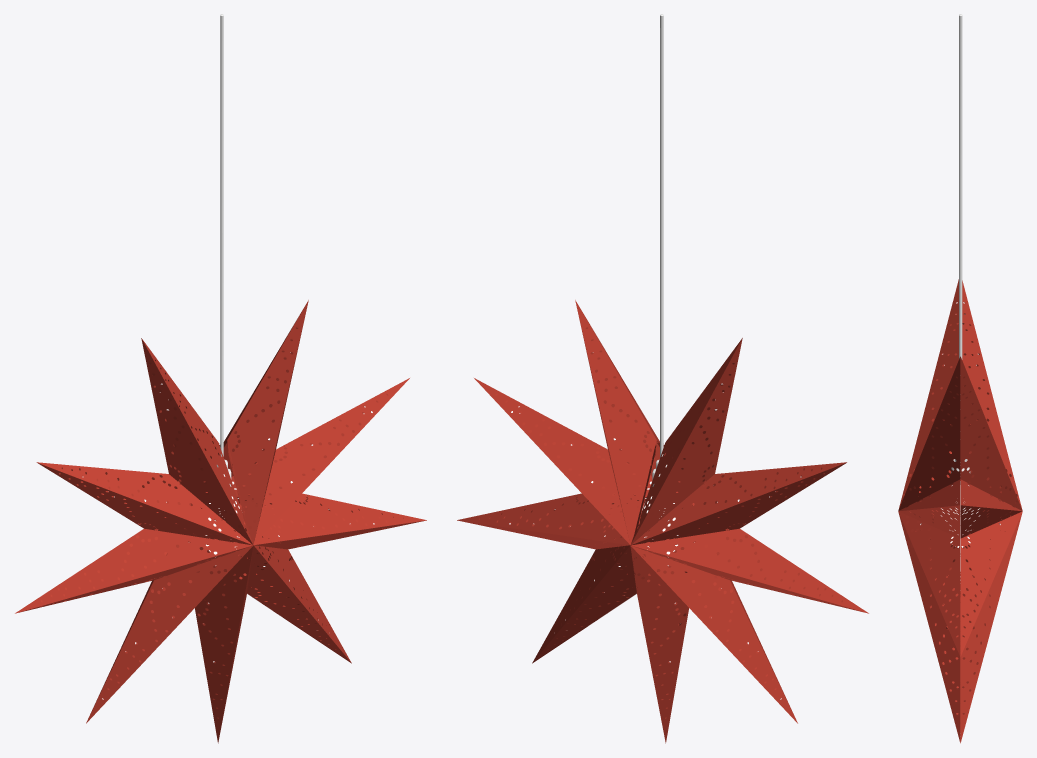
File: star_red.glb
The picture shows the model from 3 angles, left to right: view 1: azimuth 30°, elevation 25°; view 2: azimuth 150°, elevation 25°; view 3: azimuth 270°, elevation 25°; orthographic projection. The views are drawn at different scales.
Parts seen in each view (by area): view 1: star, lamp; view 2: star, lamp; view 3: star, lamp.
Part boxes in pixels (x1=…): star: x1=15, y1=300, x2=426, y2=743; lamp: x1=205, y1=14, x2=239, y2=557; star: x1=457, y1=300, x2=868, y2=743; lamp: x1=642, y1=14, x2=678, y2=557; star: x1=898, y1=279, x2=1022, y2=743; lamp: x1=940, y1=14, x2=980, y2=548.
Size of the model in its own units: 0.6703 by 1.13 by 0.1784.
Materials: 3 (1 with a texture image).
